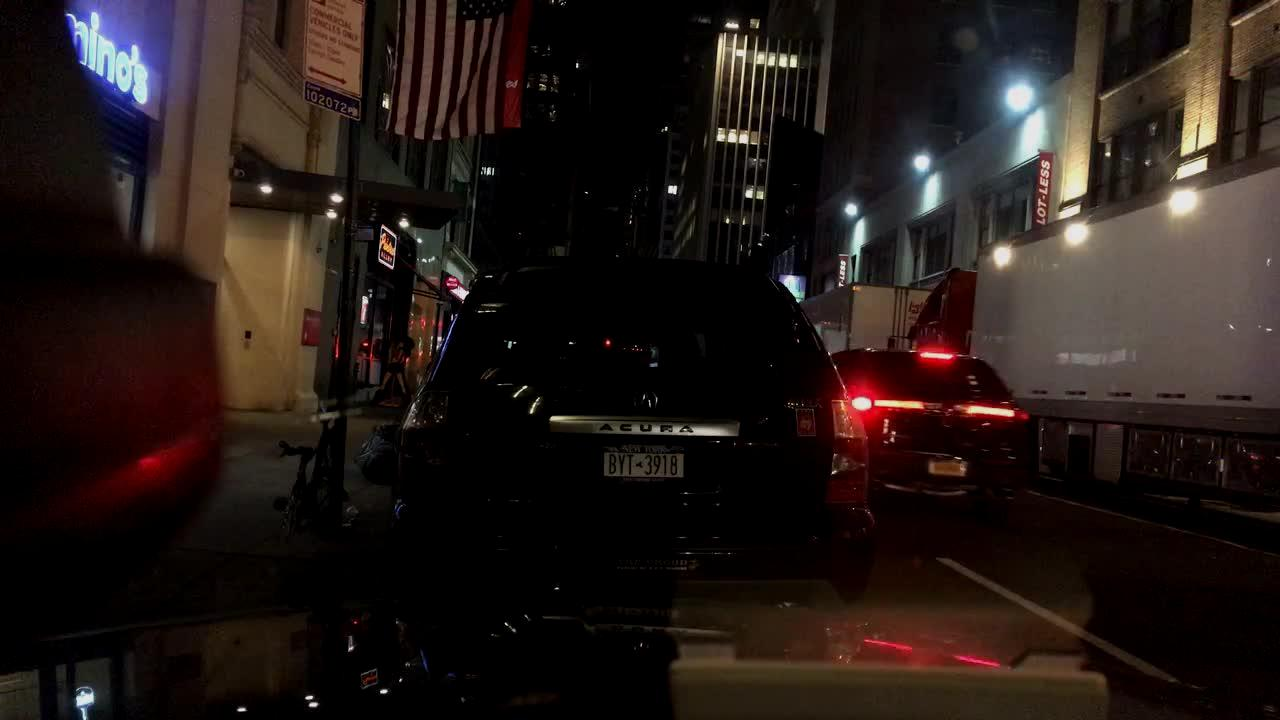acura: (628, 382, 667, 421)
lincoln: (938, 395, 960, 435)
